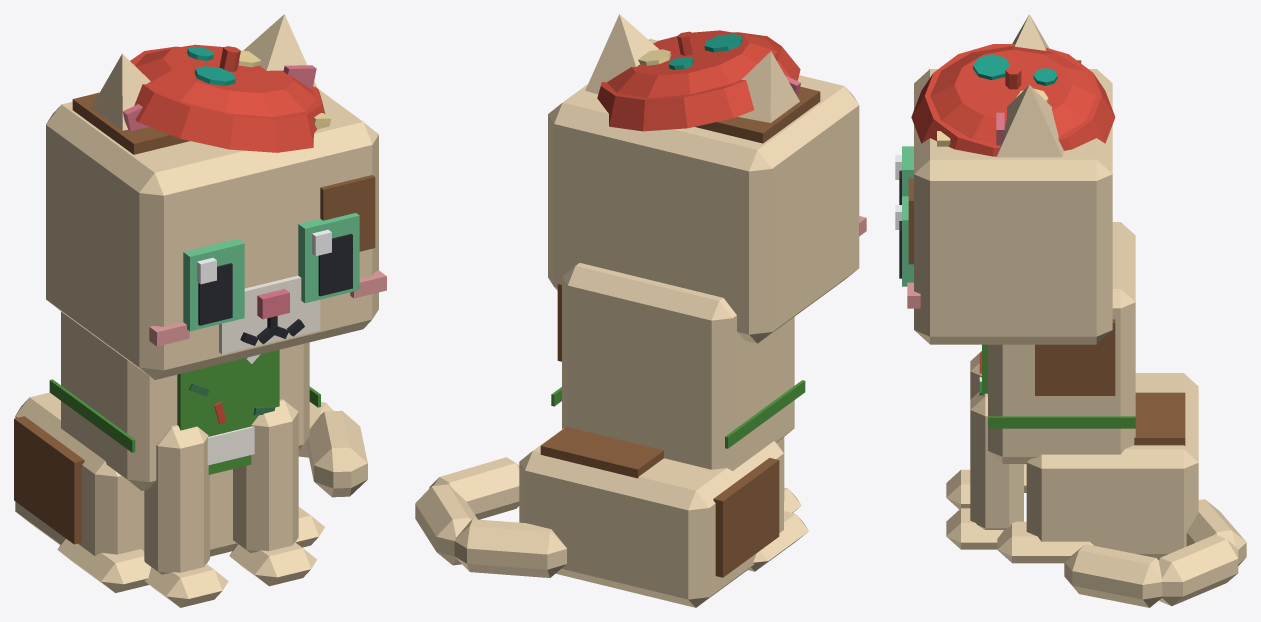
File: CatCafe_NPC_Townsfolk_Picnicker.glb
3 renders of one model, left to right at view 1: azimuth 30°, elevation 25°; view 2: azimuth 150°, elevation 25°; view 3: azimuth 270°, elevation 25°, orthographic. The views are drawn at different scales.
Parts seen in each view (by area): view 1: CatCafe_NPC_Townsfolk_Picnicker_Head, CatCafe_NPC_Townsfolk_Picnicker_Body, CatCafe_NPC_Townsfolk_Picnicker_Prop, CatCafe_NPC_Townsfolk_Picnicker_LegF2, CatCafe_NPC_Townsfolk_Picnicker_LegF1, CatCafe_NPC_Townsfolk_Picnicker_Eye2, CatCafe_NPC_Townsfolk_Picnicker_Eye1, CatCafe_NPC_Townsfolk_Picnicker_Tail, CatCafe_NPC_Townsfolk_Picnicker_EarR, CatCafe_NPC_Townsfolk_Picnicker_EarL; view 2: CatCafe_NPC_Townsfolk_Picnicker_Body, CatCafe_NPC_Townsfolk_Picnicker_Head, CatCafe_NPC_Townsfolk_Picnicker_Prop, CatCafe_NPC_Townsfolk_Picnicker_Tail, CatCafe_NPC_Townsfolk_Picnicker_EarR, CatCafe_NPC_Townsfolk_Picnicker_EarL; view 3: CatCafe_NPC_Townsfolk_Picnicker_Body, CatCafe_NPC_Townsfolk_Picnicker_Head, CatCafe_NPC_Townsfolk_Picnicker_Prop, CatCafe_NPC_Townsfolk_Picnicker_Tail, CatCafe_NPC_Townsfolk_Picnicker_LegF1, CatCafe_NPC_Townsfolk_Picnicker_EarL, CatCafe_NPC_Townsfolk_Picnicker_LegF2, CatCafe_NPC_Townsfolk_Picnicker_Eye1, CatCafe_NPC_Townsfolk_Picnicker_Eye2, CatCafe_NPC_Townsfolk_Picnicker_EarR.
Part boxes in pixels (x1,y1,x2,y2): CatCafe_NPC_Townsfolk_Picnicker_Head: (46, 89, 386, 379); CatCafe_NPC_Townsfolk_Picnicker_Body: (14, 312, 324, 592); CatCafe_NPC_Townsfolk_Picnicker_Prop: (130, 44, 330, 152); CatCafe_NPC_Townsfolk_Picnicker_LegF2: (144, 425, 228, 607); CatCafe_NPC_Townsfolk_Picnicker_LegF1: (229, 399, 317, 586); CatCafe_NPC_Townsfolk_Picnicker_Eye2: (183, 238, 244, 331); CatCafe_NPC_Townsfolk_Picnicker_Eye1: (298, 213, 359, 303); CatCafe_NPC_Townsfolk_Picnicker_Tail: (298, 402, 367, 497); CatCafe_NPC_Townsfolk_Picnicker_EarR: (91, 53, 150, 131); CatCafe_NPC_Townsfolk_Picnicker_EarL: (243, 14, 320, 95); CatCafe_NPC_Townsfolk_Picnicker_Body: (519, 263, 808, 607); CatCafe_NPC_Townsfolk_Picnicker_Head: (548, 38, 866, 343); CatCafe_NPC_Townsfolk_Picnicker_Prop: (597, 30, 800, 131); CatCafe_NPC_Townsfolk_Picnicker_Tail: (415, 457, 566, 577); CatCafe_NPC_Townsfolk_Picnicker_EarR: (737, 51, 800, 122); CatCafe_NPC_Townsfolk_Picnicker_EarL: (585, 14, 658, 94); CatCafe_NPC_Townsfolk_Picnicker_Body: (979, 222, 1198, 563); CatCafe_NPC_Townsfolk_Picnicker_Head: (907, 60, 1112, 344); CatCafe_NPC_Townsfolk_Picnicker_Prop: (911, 44, 1115, 156); CatCafe_NPC_Townsfolk_Picnicker_Tail: (1064, 499, 1246, 607); CatCafe_NPC_Townsfolk_Picnicker_LegF1: (946, 392, 1023, 549); CatCafe_NPC_Townsfolk_Picnicker_EarL: (996, 85, 1063, 157); CatCafe_NPC_Townsfolk_Picnicker_LegF2: (946, 351, 981, 509); CatCafe_NPC_Townsfolk_Picnicker_Eye1: (895, 196, 913, 286); CatCafe_NPC_Townsfolk_Picnicker_Eye2: (895, 146, 913, 204); CatCafe_NPC_Townsfolk_Picnicker_EarR: (1012, 14, 1049, 50).
Bounding box in the file's own units: 1.24 × 1.85 × 1.24.
Materials: 1 (1 with a texture image).
